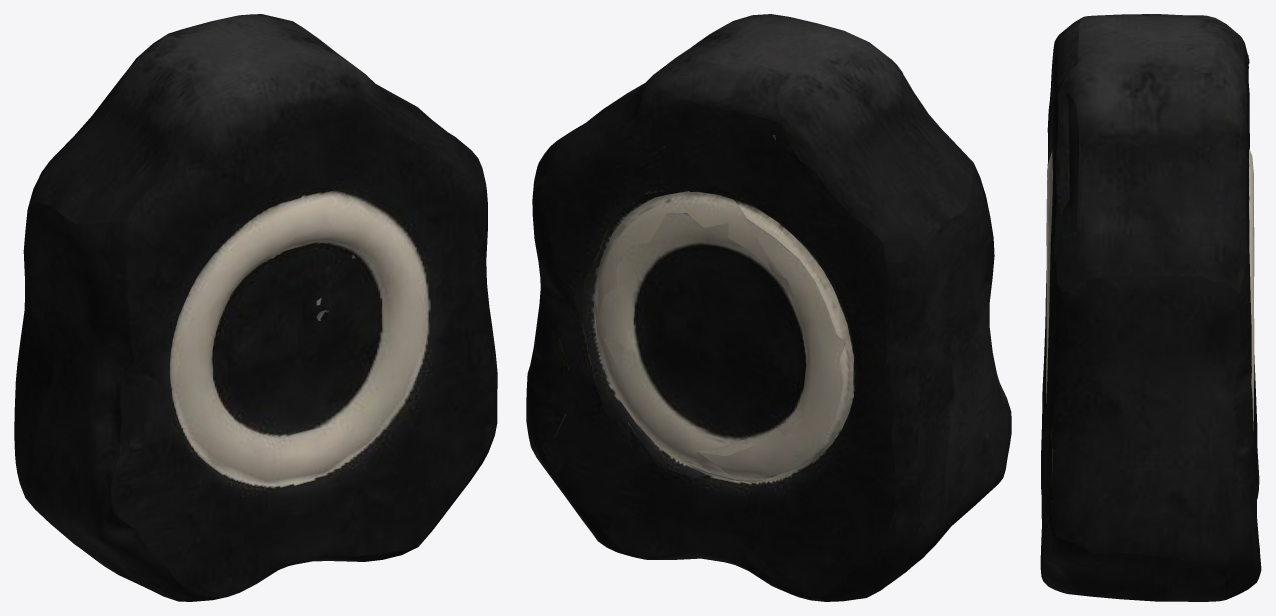
The model's file is lg-eclipse-monolith.glb.
3 renders of one model, left to right at view 1: azimuth 30°, elevation 25°; view 2: azimuth 150°, elevation 25°; view 3: azimuth 270°, elevation 25°, orthographic.
Visible parts, largest first — view 1: geometry_0; view 2: geometry_0; view 3: geometry_0.
Boxes of the visible parts, left/top/right/bottom form: geometry_0: left=14, top=14, right=497, bottom=601; geometry_0: left=526, top=14, right=1011, bottom=601; geometry_0: left=1040, top=14, right=1261, bottom=601.
Bounding box in the file's own units: 0.8337 × 1 × 0.4014.
1 material, 1 textured.
